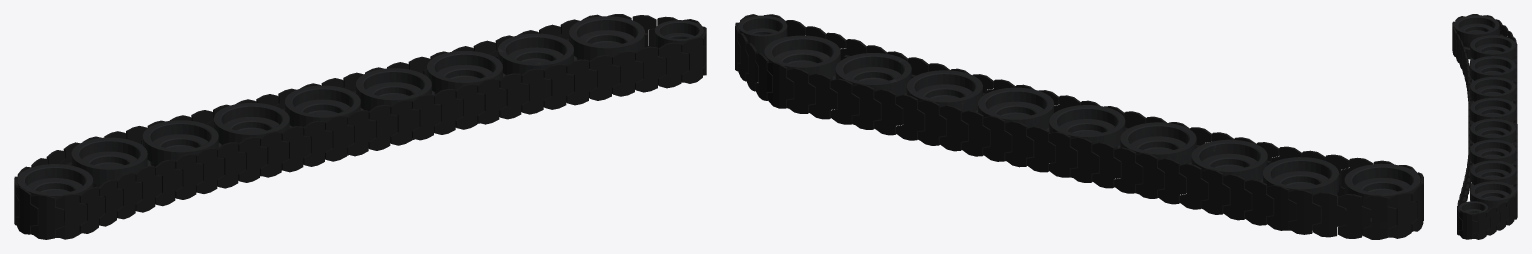
File: Track.glb
The picture shows the model from 3 angles, left to right: view 1: azimuth 30°, elevation 25°; view 2: azimuth 150°, elevation 25°; view 3: azimuth 270°, elevation 25°; orthographic projection. The views are drawn at different scales.
Visible parts, largest first — view 1: Left_track.002, Wheels.001; view 2: Left_track.002, Wheels.001; view 3: Wheels.001, Left_track.002.
Boxes of the visible parts, bbox=[...] form: Left_track.002: bbox=[14, 14, 706, 239]; Wheels.001: bbox=[17, 16, 703, 237]; Left_track.002: bbox=[735, 14, 1423, 239]; Wheels.001: bbox=[738, 15, 1420, 237]; Wheels.001: bbox=[1454, 15, 1515, 238]; Left_track.002: bbox=[1452, 14, 1517, 239].
Size of the model in its own units: 0.8621 by 0.0528 by 0.1192.
Materials: 2 (1 with a texture image).
